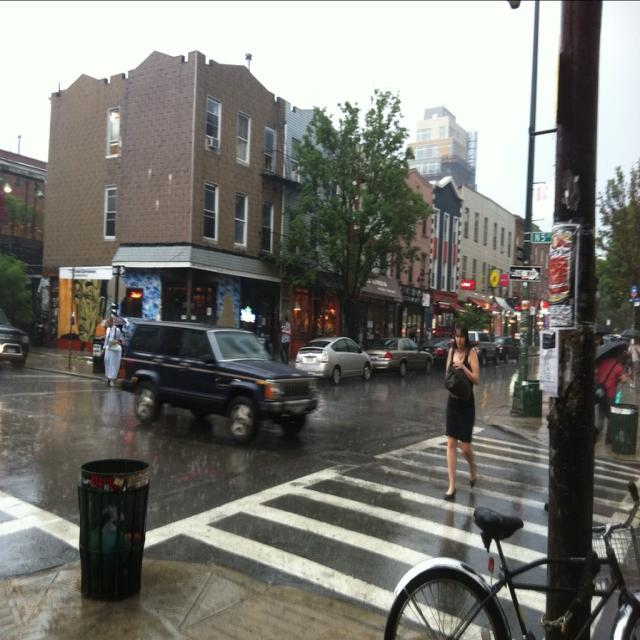car: (116, 321, 316, 442)
